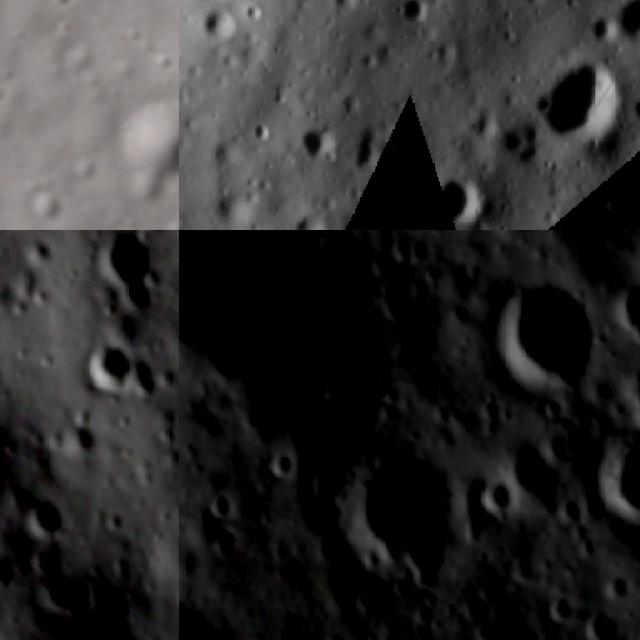crater: (179, 230, 362, 389), (512, 33, 640, 167), (342, 438, 458, 574), (483, 271, 602, 386), (111, 102, 179, 202), (587, 413, 640, 526), (415, 162, 498, 230), (486, 106, 560, 179), (498, 429, 564, 505), (332, 115, 398, 183), (285, 114, 346, 175), (103, 232, 155, 300), (185, 0, 245, 57), (198, 180, 261, 230), (74, 343, 134, 395), (311, 230, 374, 273), (375, 278, 424, 332), (16, 496, 72, 540), (472, 472, 521, 522), (610, 272, 640, 351), (196, 479, 243, 524), (258, 438, 301, 485), (579, 599, 628, 640), (388, 0, 442, 35), (278, 201, 338, 230), (179, 0, 258, 22), (541, 578, 576, 624), (506, 549, 545, 588), (28, 189, 67, 226), (209, 523, 245, 558), (474, 578, 505, 606), (472, 616, 501, 640), (319, 620, 351, 640), (154, 47, 172, 76), (33, 282, 46, 316), (627, 361, 640, 392), (33, 234, 45, 265), (43, 0, 68, 13)
